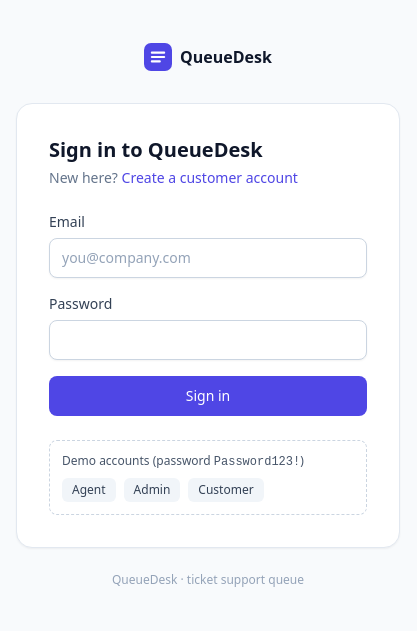
Scenario: login page › shows the server error for bad credentials
Type "agent@queuedesk.test" into the field labelled "Email" at (208, 258), box [49,238,367,278]
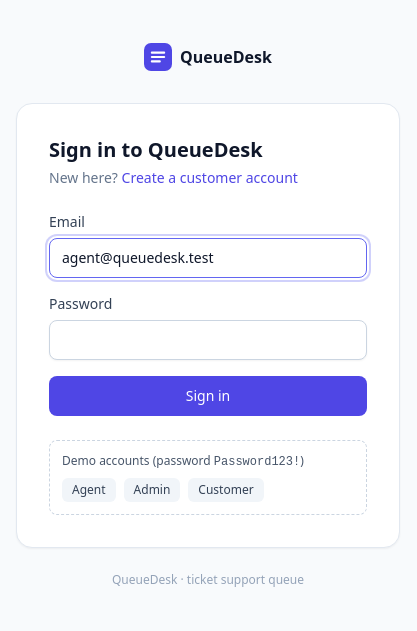
Type "wrong" into the password field labelled "Password" at (208, 340), box [49,320,367,360]
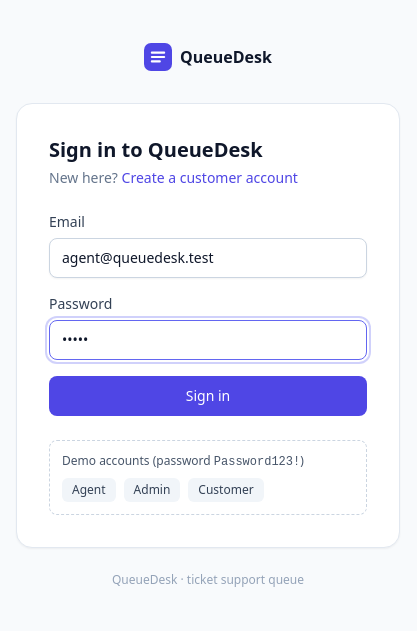
Click the button "Sign in" at (208, 396), box [49,376,367,416]
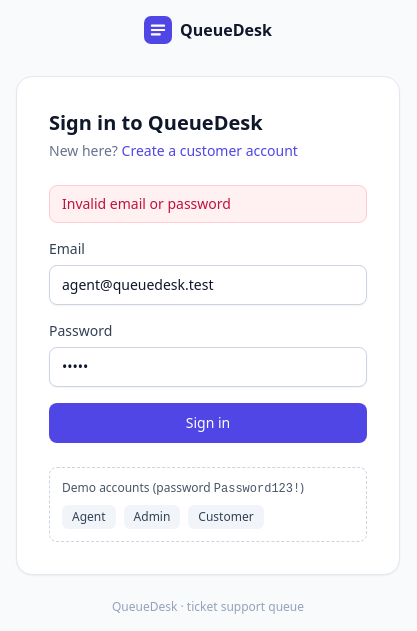
Result: the message reads "Invalid email or password" at [62,194,231,212]
